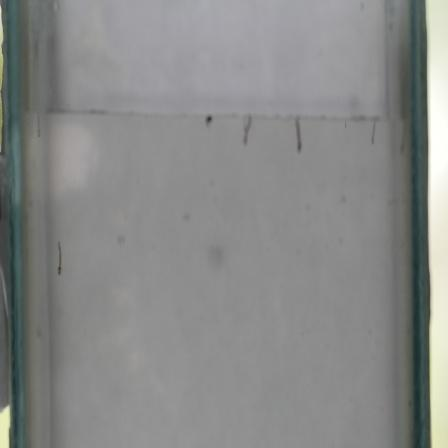Jentik-Nyamuk: (53, 239, 66, 279)
